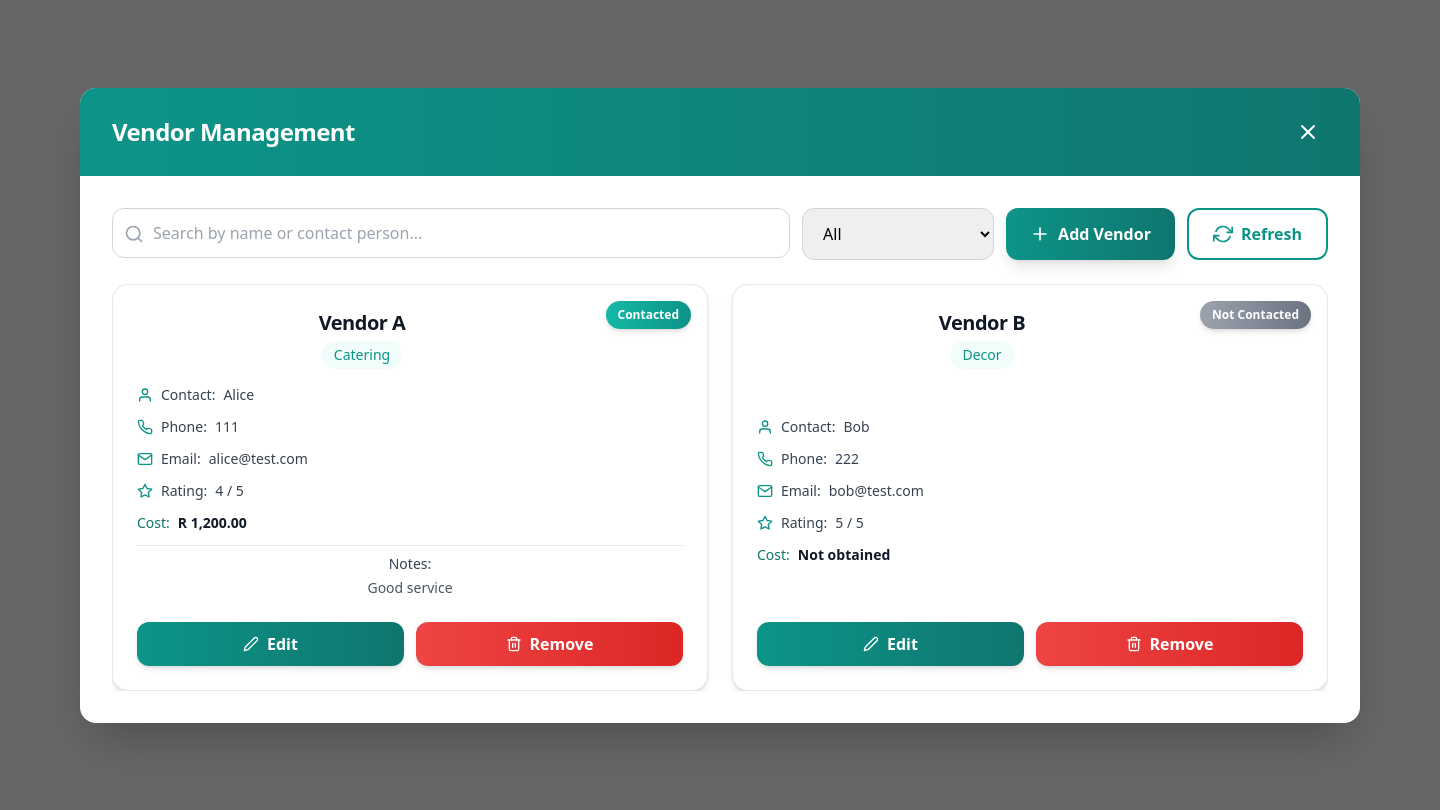
VendorsModal › filters vendors by type
Expected: the heading "Vendor A" is shown, [319,308,405,336]
Select "Decor" in the dropdown showing "All": (898, 234) [802,208,994,260]
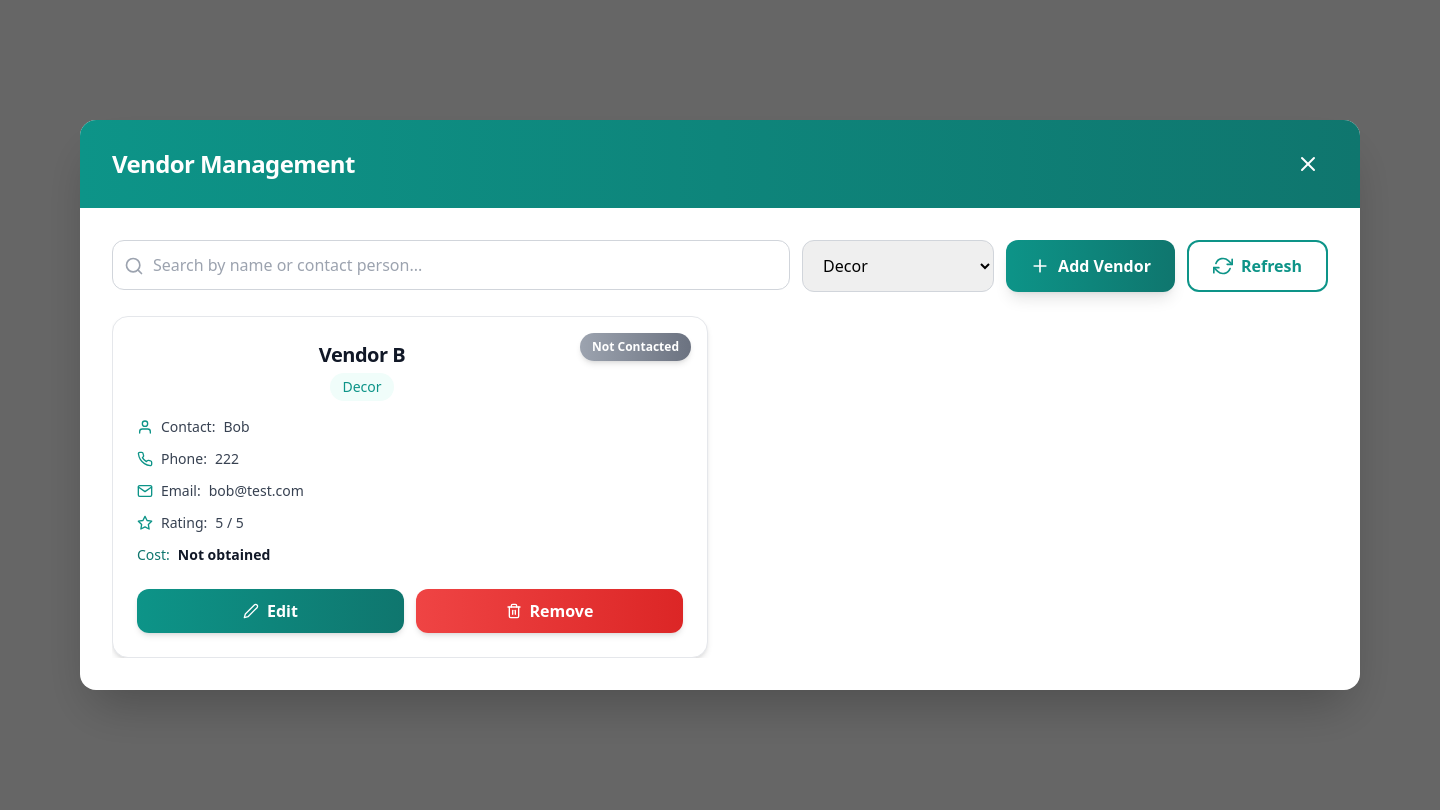
Expected: the heading "Vendor B" is shown, [319,341,405,368]
Expected: the heading "Vendor A" is gone
